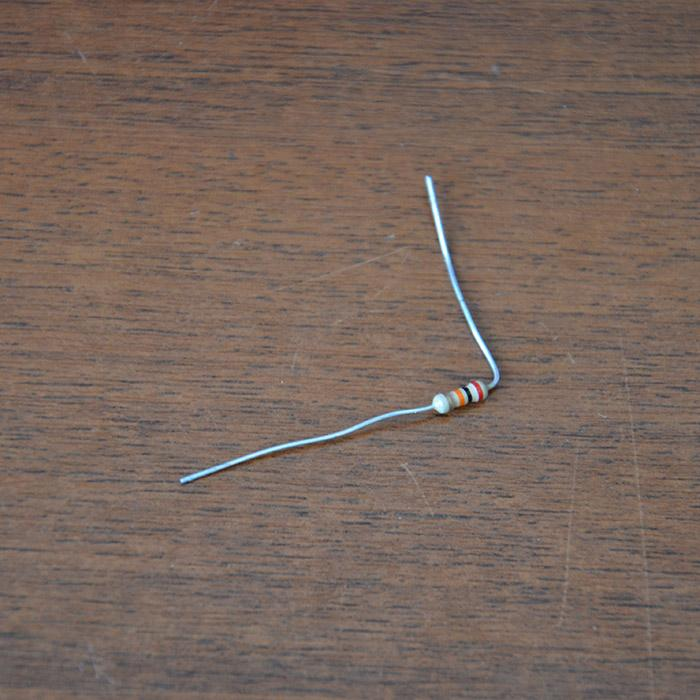resistor: (435, 379, 489, 414)
